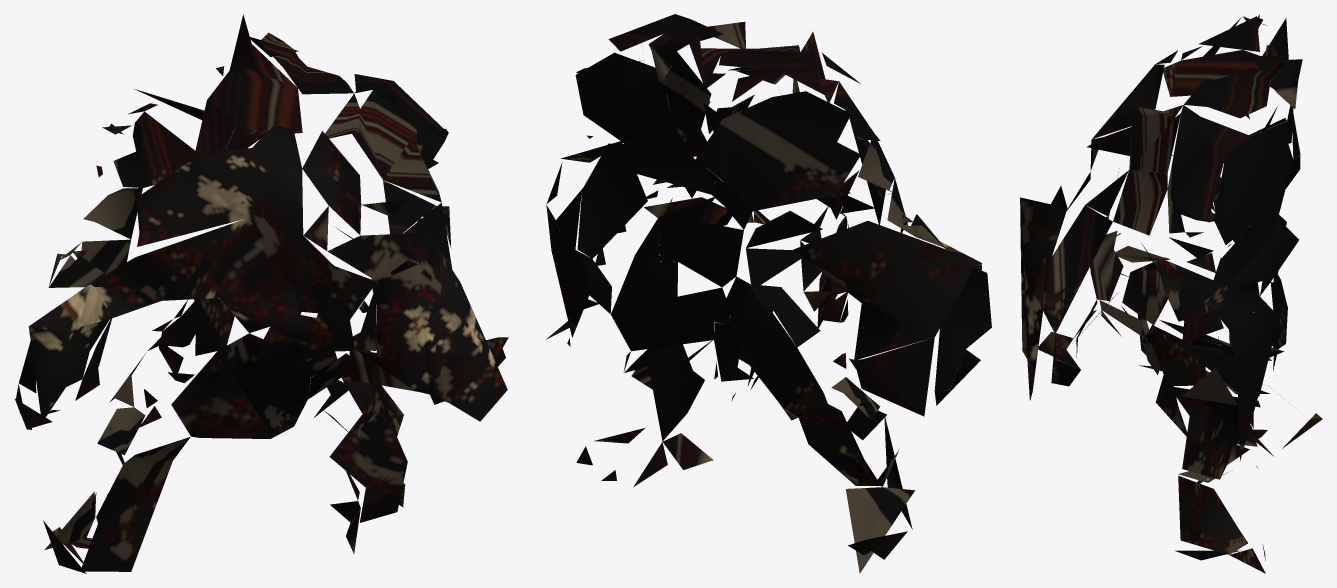
3 views of the same model, side by side, from view 1: azimuth 30°, elevation 25°; view 2: azimuth 150°, elevation 25°; view 3: azimuth 270°, elevation 25° (orthographic). The views are drawn at different scales.
Parts seen in each view (by area): view 1: body.002; view 2: body.002; view 3: body.002.
Part boxes in pixels (<box>): body.002: <box>14,14,508,573</box>; body.002: <box>546,14,991,573</box>; body.002: <box>1020,14,1322,573</box>.
Size of the model in its own units: 1.96 by 2.12 by 1.16.
1 material, 1 textured.
